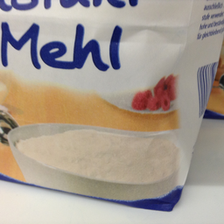flour: (1, 1, 221, 211)
